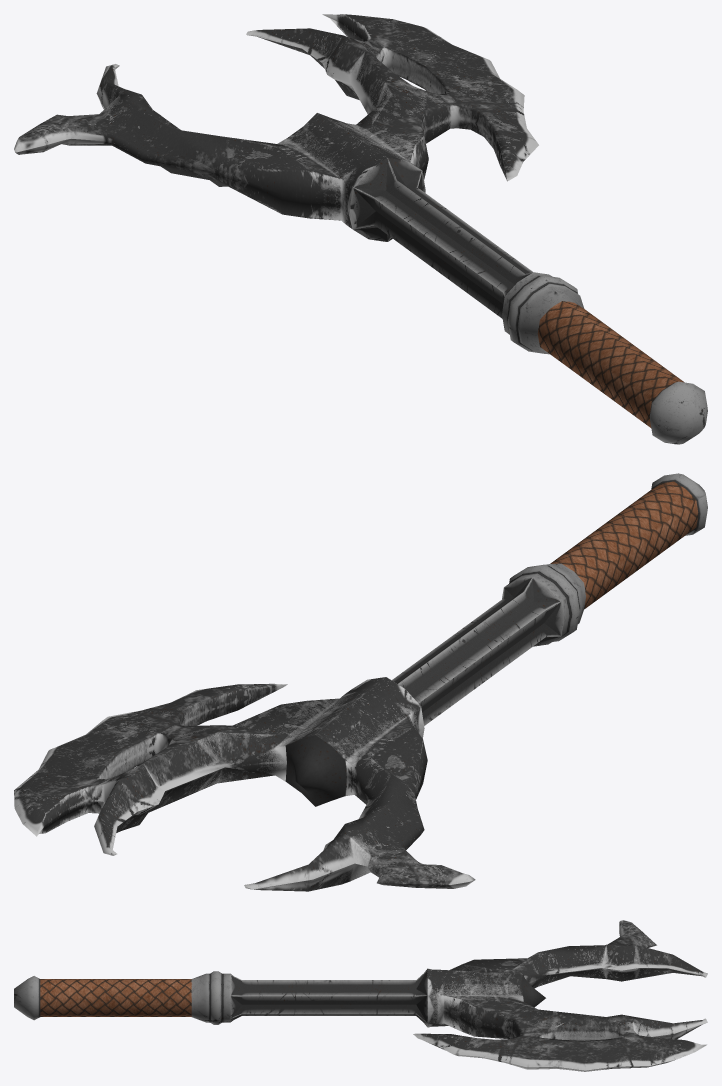
The model's file is GreatCoreAxeShortMeshFBX.fbx.
3 renders of one model, top to bottom at view 1: azimuth 30°, elevation 25°; view 2: azimuth 150°, elevation 25°; view 3: azimuth 270°, elevation 25°, orthographic. The views are drawn at different scales.
Visible parts, largest first — view 1: GreatCoreAxeShortMesh; view 2: GreatCoreAxeShortMesh; view 3: GreatCoreAxeShortMesh.
Boxes of the visible parts, <box> form: GreatCoreAxeShortMesh: <box>14,14,707,444</box>; GreatCoreAxeShortMesh: <box>14,473,707,891</box>; GreatCoreAxeShortMesh: <box>14,920,707,1071</box>.
Size of the model in its own units: 139 by 24.73 by 274.
